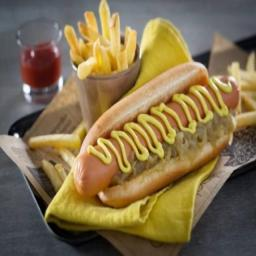hotdog: (73, 57, 245, 206)
